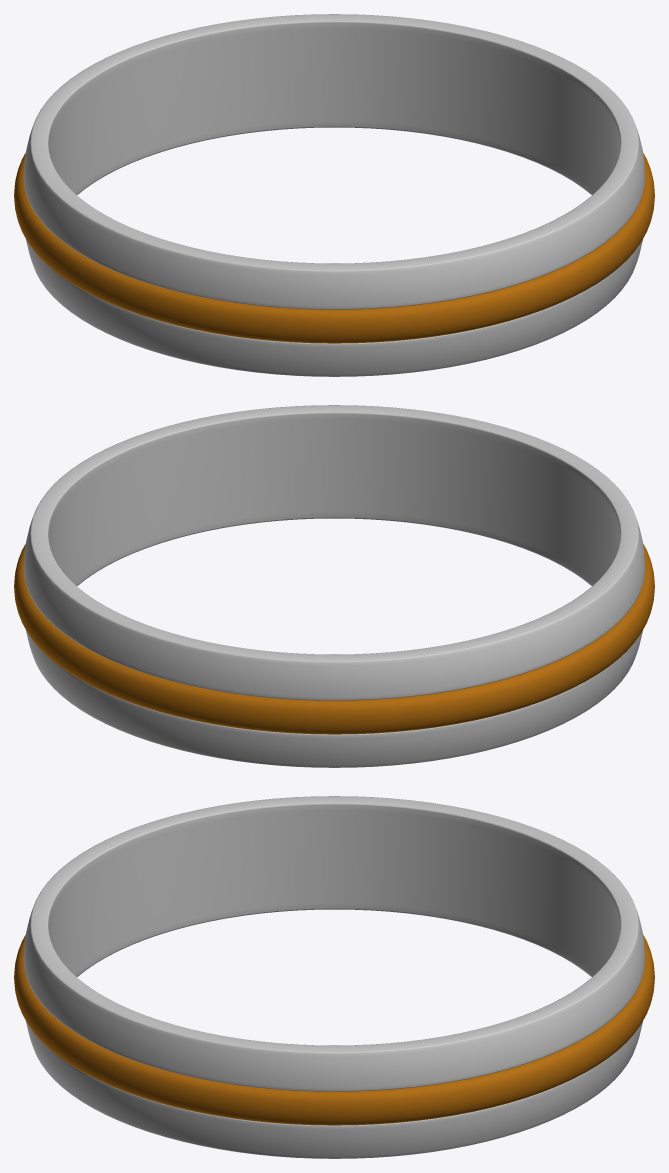
3 views of the same model, one above another, from view 1: azimuth 30°, elevation 25°; view 2: azimuth 150°, elevation 25°; view 3: azimuth 270°, elevation 25° (orthographic).
Visible parts, largest first — view 1: Base_Metal, Engraving_Metal, Finishing_Metal; view 2: Base_Metal, Engraving_Metal, Finishing_Metal; view 3: Base_Metal, Engraving_Metal, Finishing_Metal.
Part boxes in pixels (x1=…): Base_Metal: x1=23, y1=14, x2=645, y2=376; Engraving_Metal: x1=48, y1=28, x2=620, y2=191; Finishing_Metal: x1=14, y1=153, x2=654, y2=343; Base_Metal: x1=23, y1=405, x2=645, y2=767; Engraving_Metal: x1=48, y1=419, x2=620, y2=582; Finishing_Metal: x1=14, y1=544, x2=654, y2=734; Base_Metal: x1=23, y1=796, x2=645, y2=1158; Engraving_Metal: x1=48, y1=810, x2=620, y2=973; Finishing_Metal: x1=14, y1=935, x2=654, y2=1125.
Size of the model in its own units: 2.18 by 0.4 by 2.18.
